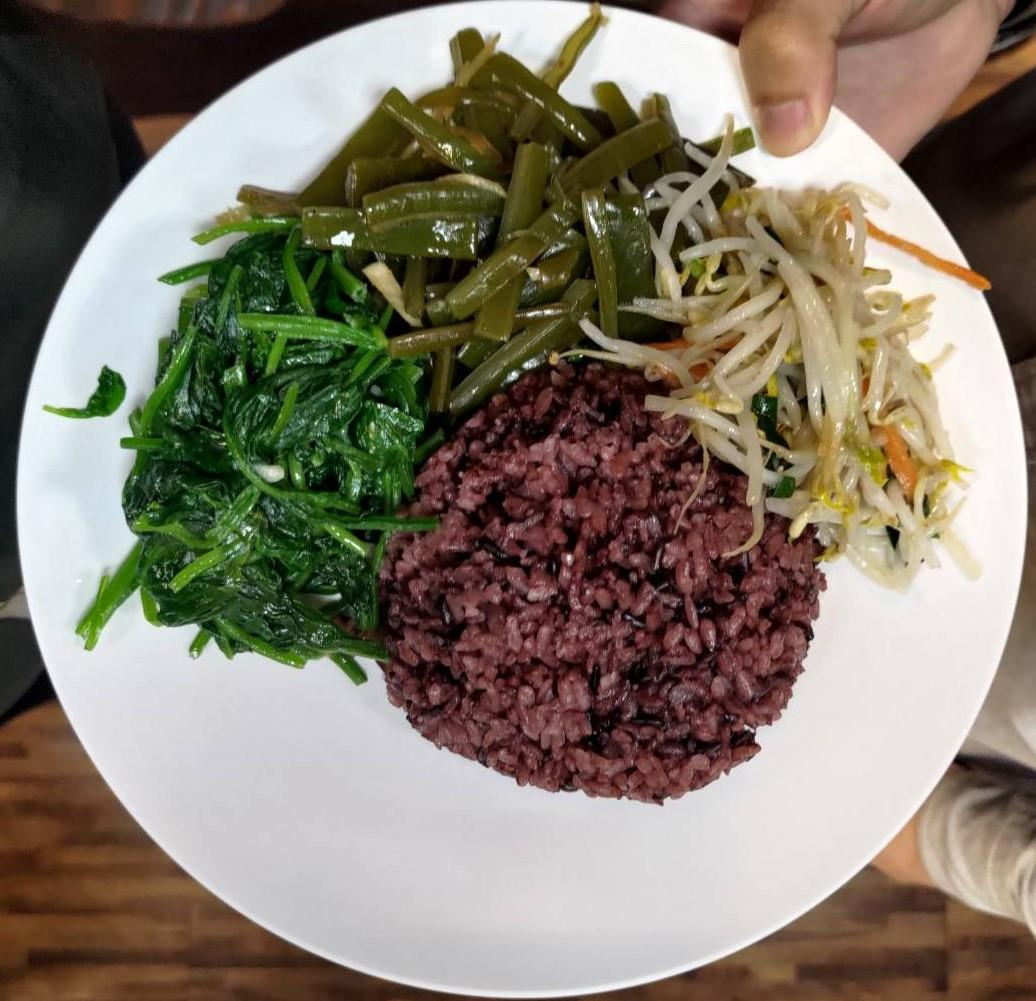big fried chicken leg: (13, 13, 1031, 1000)
braised fish: (383, 363, 827, 794)
braised fish fillet: (646, 158, 985, 572), (325, 48, 725, 379), (126, 223, 429, 652)
